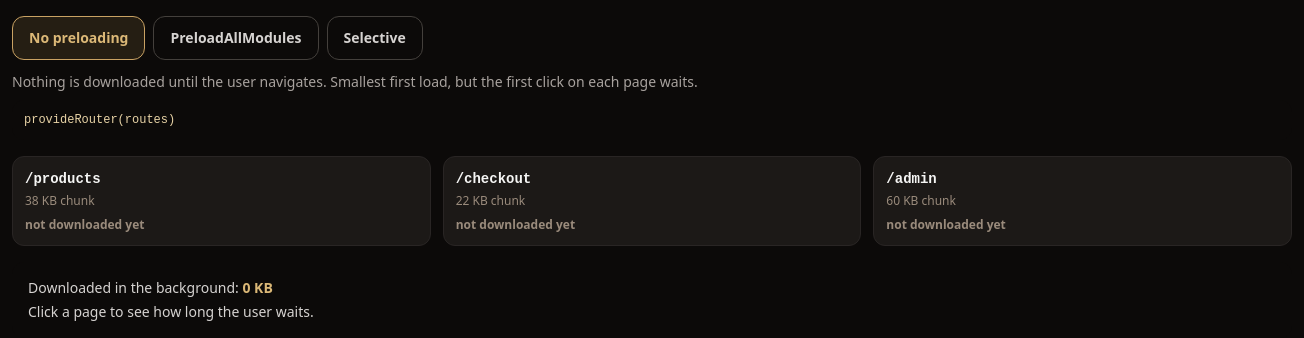
Test: PreloadingDemoComponent › opens every page instantly with PreloadAllModules, at the cost of 120 KB in the background
This screenshot has width=1304, height=338.
Step 1. Click the button "PreloadAllModules" → [236, 38], box left=154, top=16, right=318, bottom=60
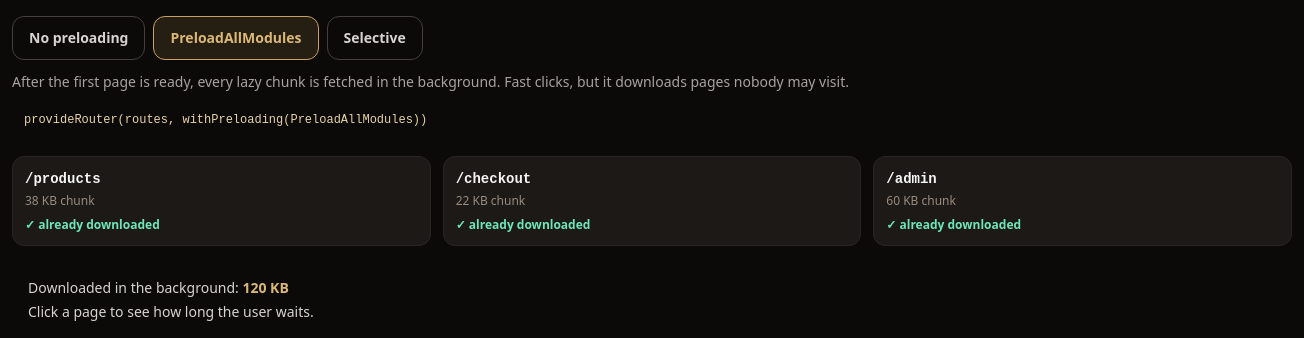
Step 2. Click the button "/admin 60 KB chunk ✓ already downloaded" → [912, 179], box left=873, top=156, right=1292, bottom=246
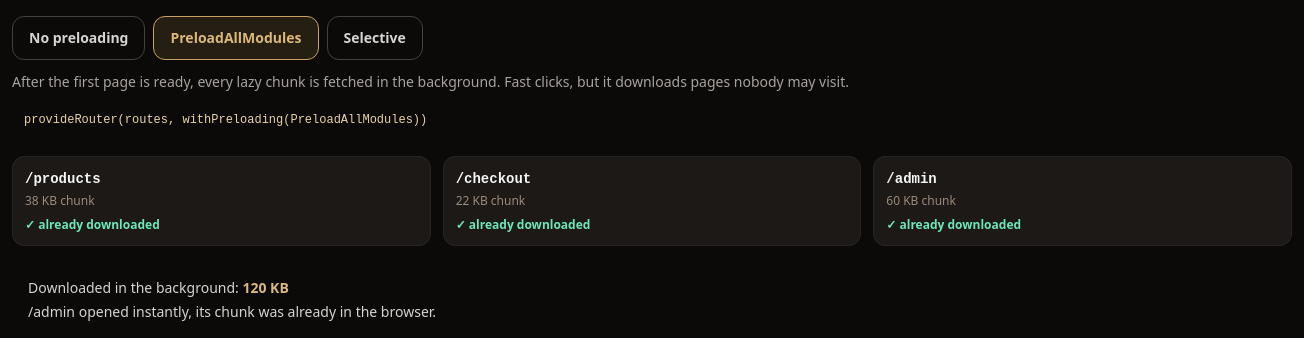
Result: the text "120 KB" is shown at left=242, top=278, right=289, bottom=297
Result: the text "instantly" is shown at left=28, top=302, right=436, bottom=321
